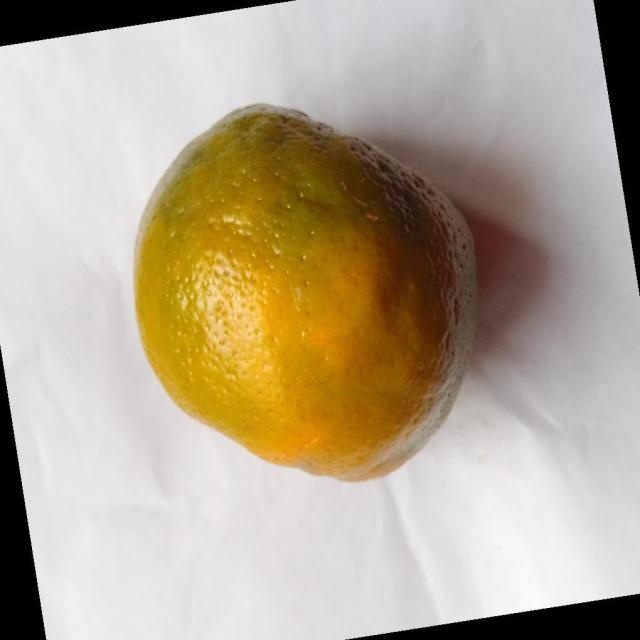agrume: (132, 101, 480, 483)
